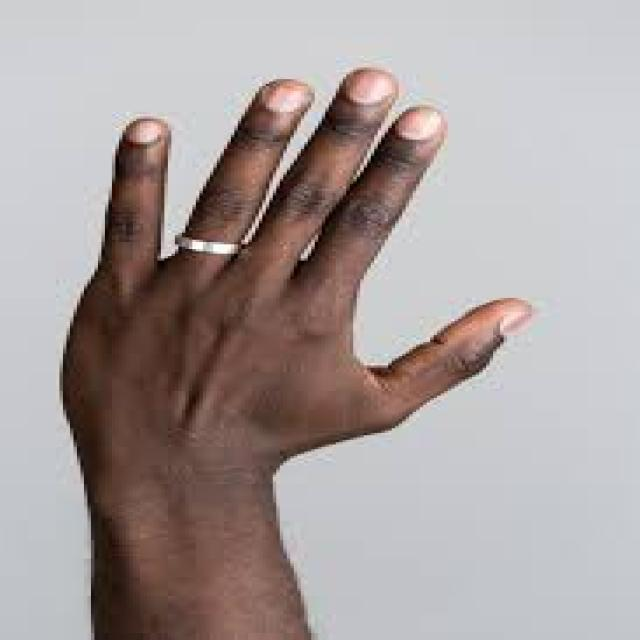Hand: (54, 58, 554, 466)
